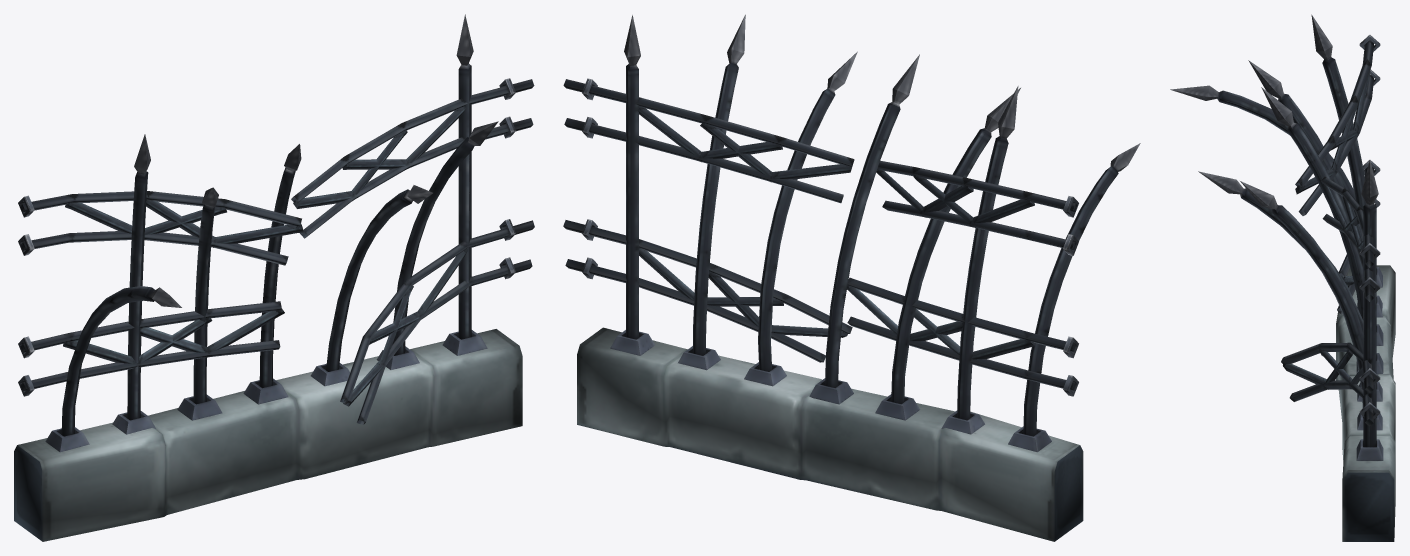
File: env_cem_verja_03.FBX
3 renders of one model, left to right at view 1: azimuth 30°, elevation 25°; view 2: azimuth 150°, elevation 25°; view 3: azimuth 270°, elevation 25°, orthographic. The views are drawn at different scales.
Visible parts, largest first — view 1: env_cem_verja_03; view 2: env_cem_verja_03; view 3: env_cem_verja_03.
Part boxes in pixels (left/top/right/bottom): env_cem_verja_03: left=14, top=14, right=534, bottom=541; env_cem_verja_03: left=563, top=14, right=1140, bottom=541; env_cem_verja_03: left=1170, top=14, right=1395, bottom=541.
Size of the model in its own units: 635 by 488 by 274.
